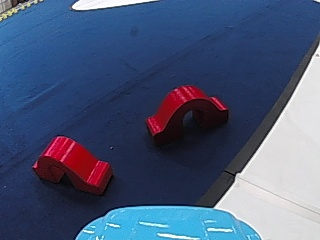bridge: (30, 132, 117, 198), (143, 81, 233, 141)
